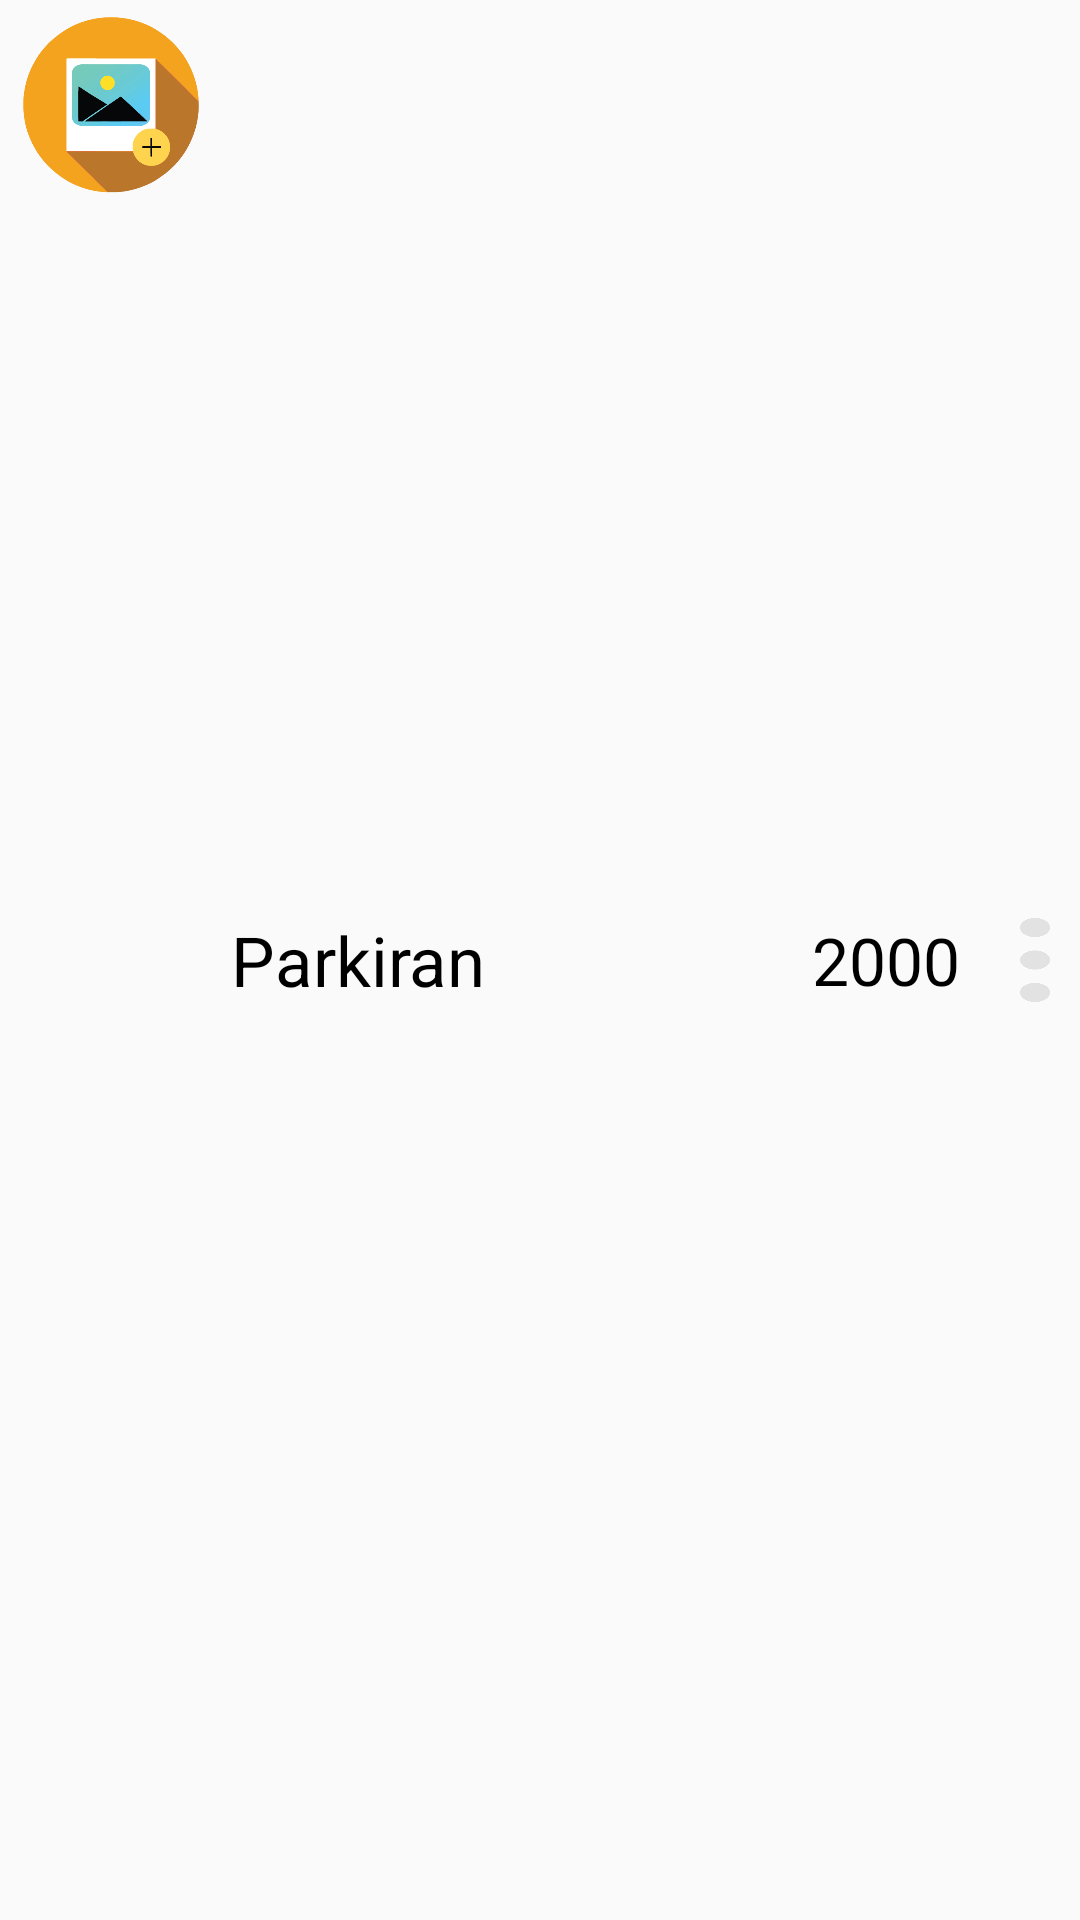

Icons on this 1080px×1920px Android screen, each with the point to tap as (x=x, y=y):
add: (x=111, y=105)
